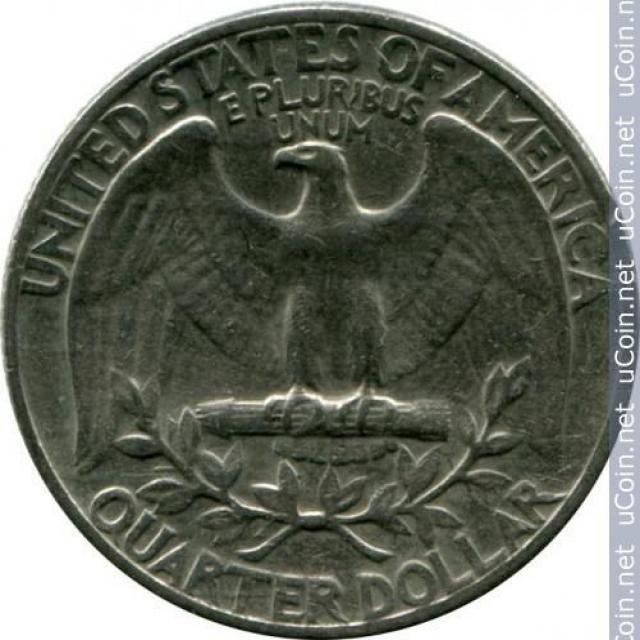Quarter: (4, 2, 639, 638)
